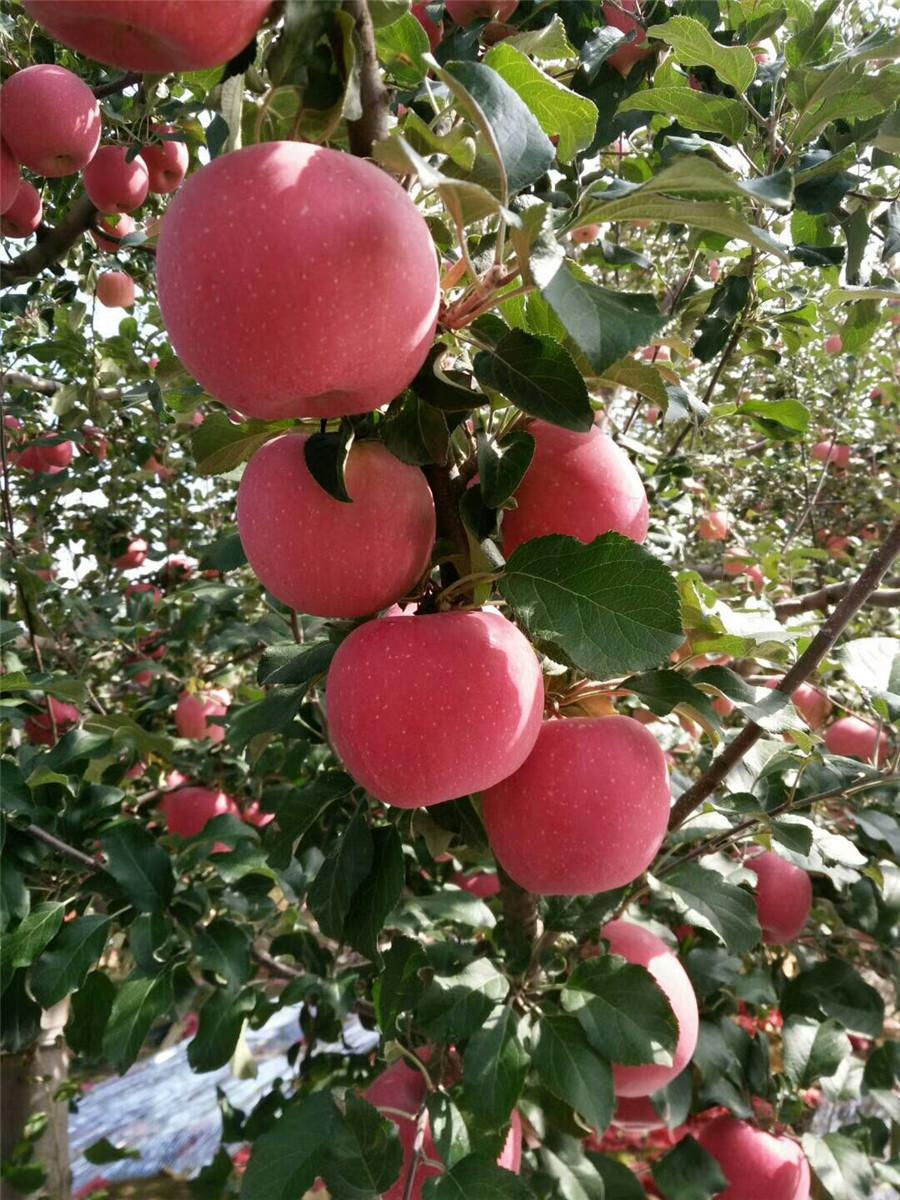apple: (152, 141, 441, 422), (323, 603, 549, 809), (233, 435, 434, 619), (477, 711, 669, 891), (2, 62, 103, 173), (80, 142, 149, 212)
